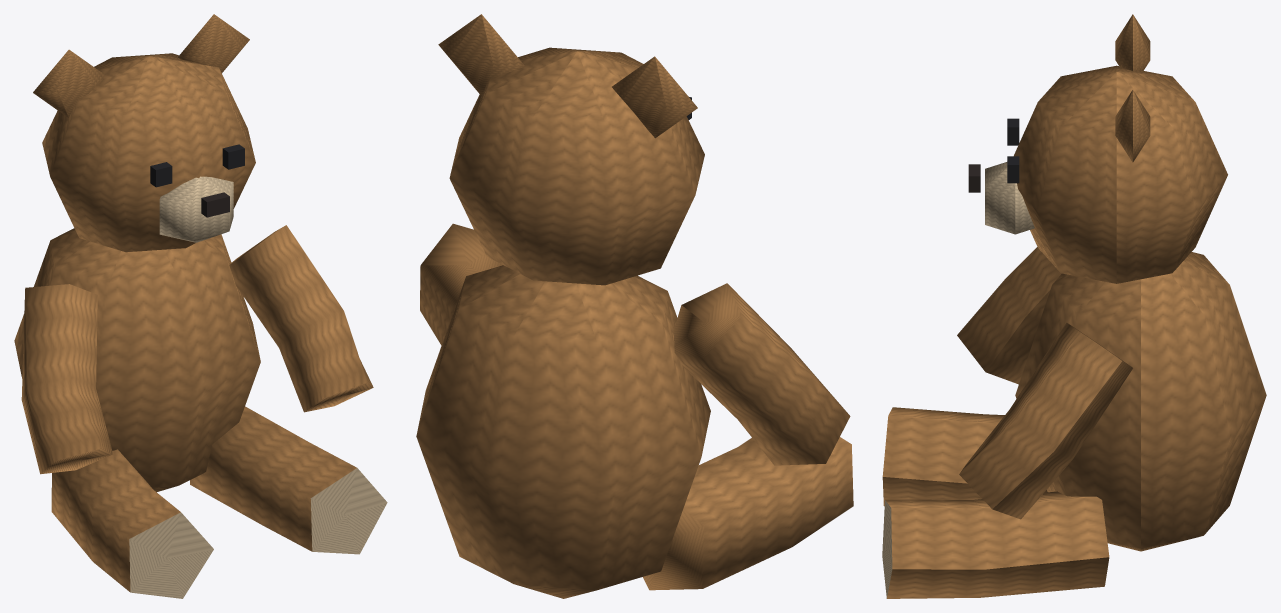
The model's file is teddy_bear.glb.
3 views of the same model, side by side, from view 1: azimuth 30°, elevation 25°; view 2: azimuth 150°, elevation 25°; view 3: azimuth 270°, elevation 25° (orthographic). The views are drawn at different scales.
Visible parts, largest first — view 1: teddy_bear; view 2: teddy_bear; view 3: teddy_bear.
Part boxes in pixels (<box>): teddy_bear: <box>14,14,387,598</box>; teddy_bear: <box>416,14,853,598</box>; teddy_bear: <box>882,14,1266,598</box>.
Bounding box in the file's own units: 0.1986 × 0.272 × 0.1896.
2 materials, 1 textured.
